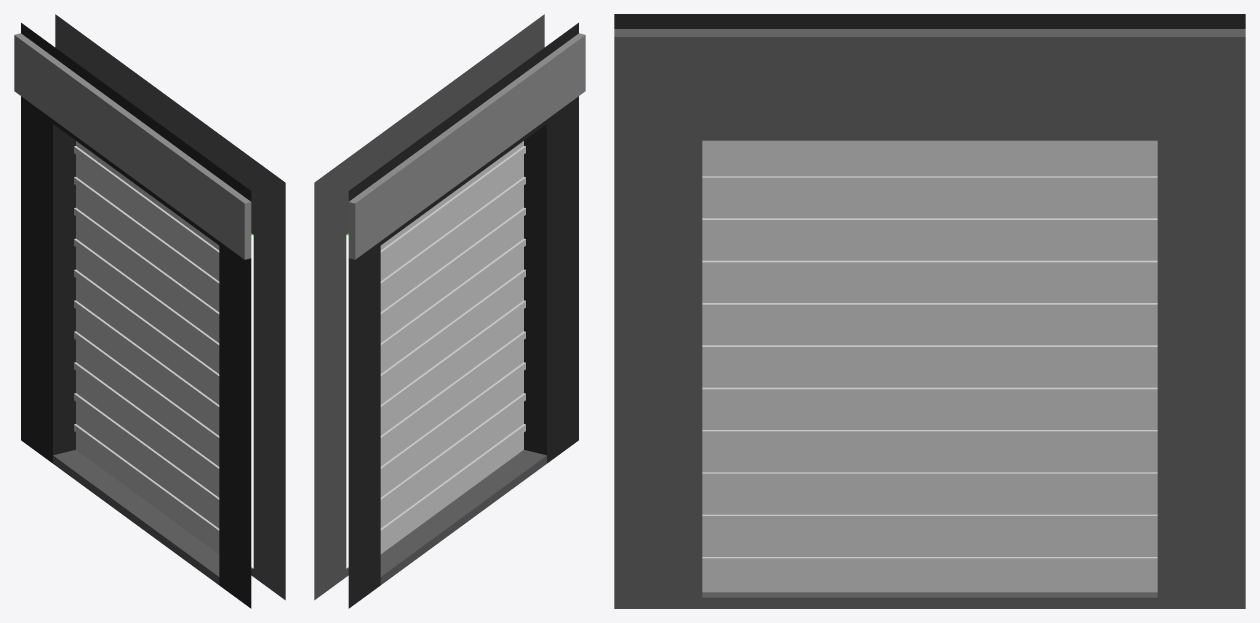
The model's file is Wall_18.FBX.
3 views of the same model, side by side, from view 1: azimuth 30°, elevation 25°; view 2: azimuth 150°, elevation 25°; view 3: azimuth 270°, elevation 25° (orthographic). The views are drawn at different scales.
Visible parts, largest first — view 1: Wall_18_LOD0, Wall_18_Door_LOD0; view 2: Wall_18_LOD0, Wall_18_Door_LOD0; view 3: Wall_18_Door_LOD0, Wall_18_LOD0.
Part boxes in pixels (bbox=[...]): Wall_18_LOD0: bbox=[14, 14, 285, 608]; Wall_18_Door_LOD0: bbox=[74, 141, 219, 553]; Wall_18_LOD0: bbox=[314, 14, 585, 608]; Wall_18_Door_LOD0: bbox=[380, 141, 525, 553]; Wall_18_Door_LOD0: bbox=[702, 140, 1157, 592]; Wall_18_LOD0: bbox=[614, 14, 1245, 608].
Size of what is drawn, in the model's own units: 18.48 by 180 by 180.
